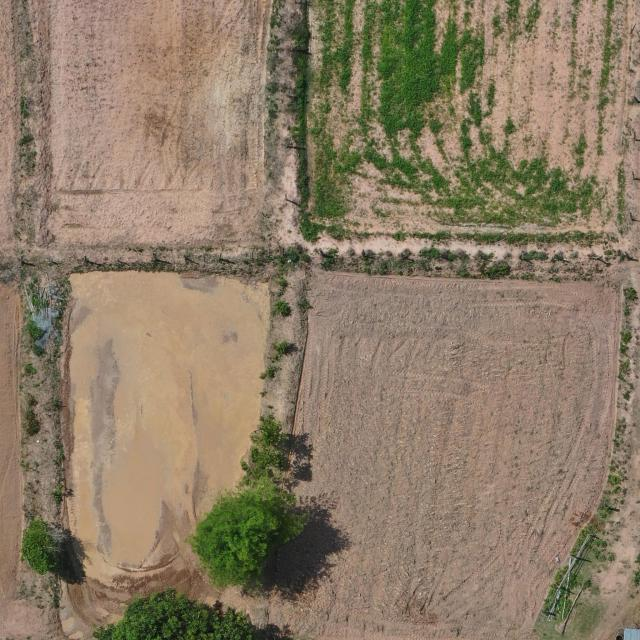tree: (185, 476, 313, 601), (91, 585, 258, 640), (240, 413, 288, 487), (20, 518, 68, 576)
